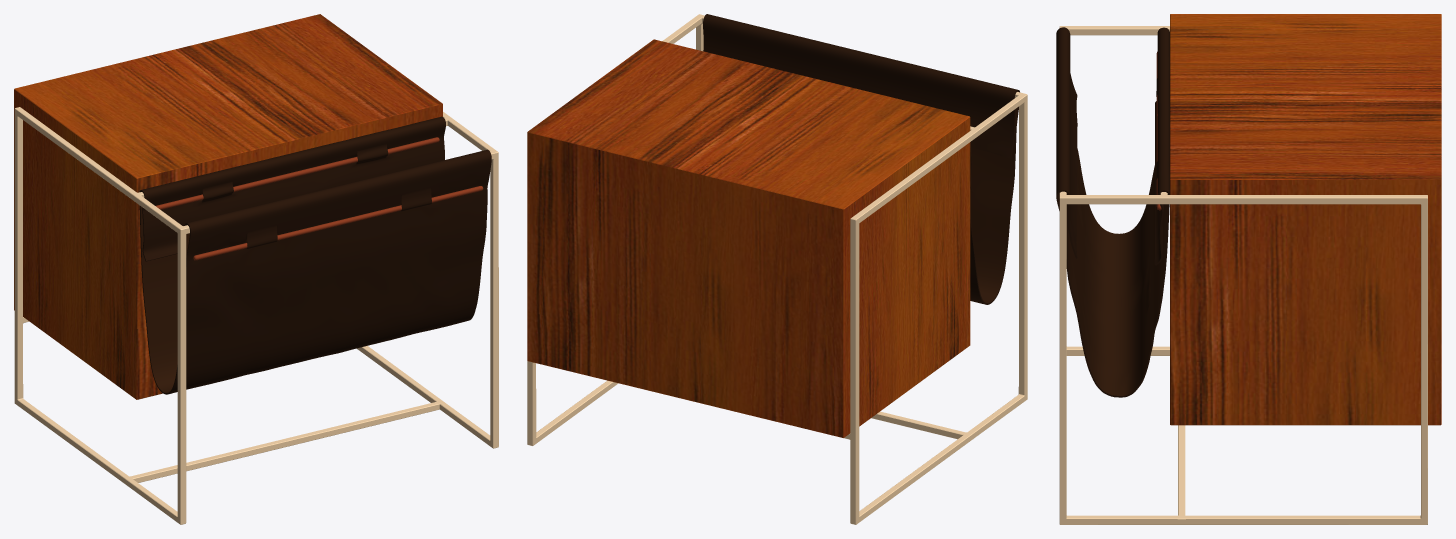
3 renders of one model, left to right at view 1: azimuth 30°, elevation 25°; view 2: azimuth 150°, elevation 25°; view 3: azimuth 270°, elevation 25°, orthographic. The views are drawn at different scales.
Visible parts, largest first — view 1: WayDesign_Brick_mat(1)_WayDesign_Brick_mat1_mtl_4_0_0; view 2: WayDesign_Brick_mat(1)_WayDesign_Brick_mat1_mtl_4_0_0; view 3: WayDesign_Brick_mat(1)_WayDesign_Brick_mat1_mtl_4_0_0.
Part boxes in pixels (x1=…): WayDesign_Brick_mat(1)_WayDesign_Brick_mat1_mtl_4_0_0: x1=14, y1=14, x2=498, y2=524; WayDesign_Brick_mat(1)_WayDesign_Brick_mat1_mtl_4_0_0: x1=527, y1=14, x2=1027, y2=524; WayDesign_Brick_mat(1)_WayDesign_Brick_mat1_mtl_4_0_0: x1=1056, y1=14, x2=1441, y2=524.
Size of the model in its own units: 0.5605 by 0.52 by 0.5304.
5 materials, 1 textured.
